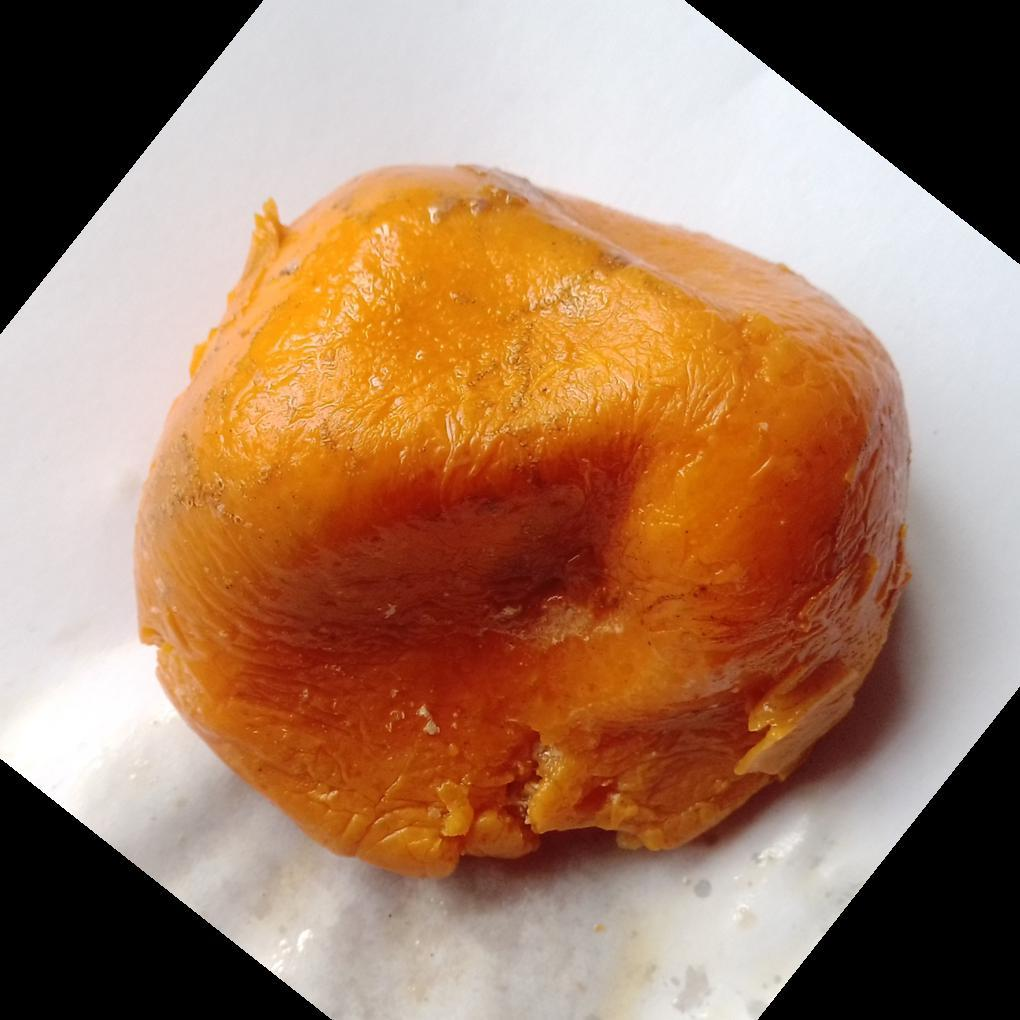FreshOrange: (132, 165, 914, 884)
